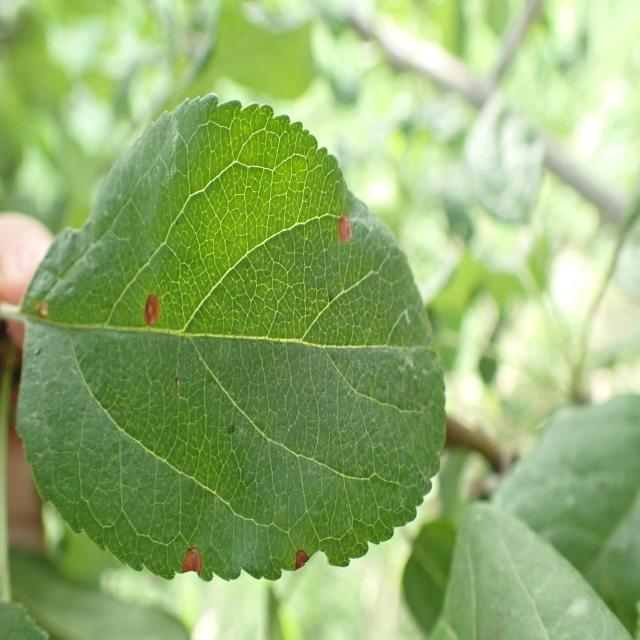Black Rot: (165, 522, 208, 605), (134, 277, 180, 341), (286, 528, 316, 594), (327, 202, 362, 252), (141, 277, 149, 277)
